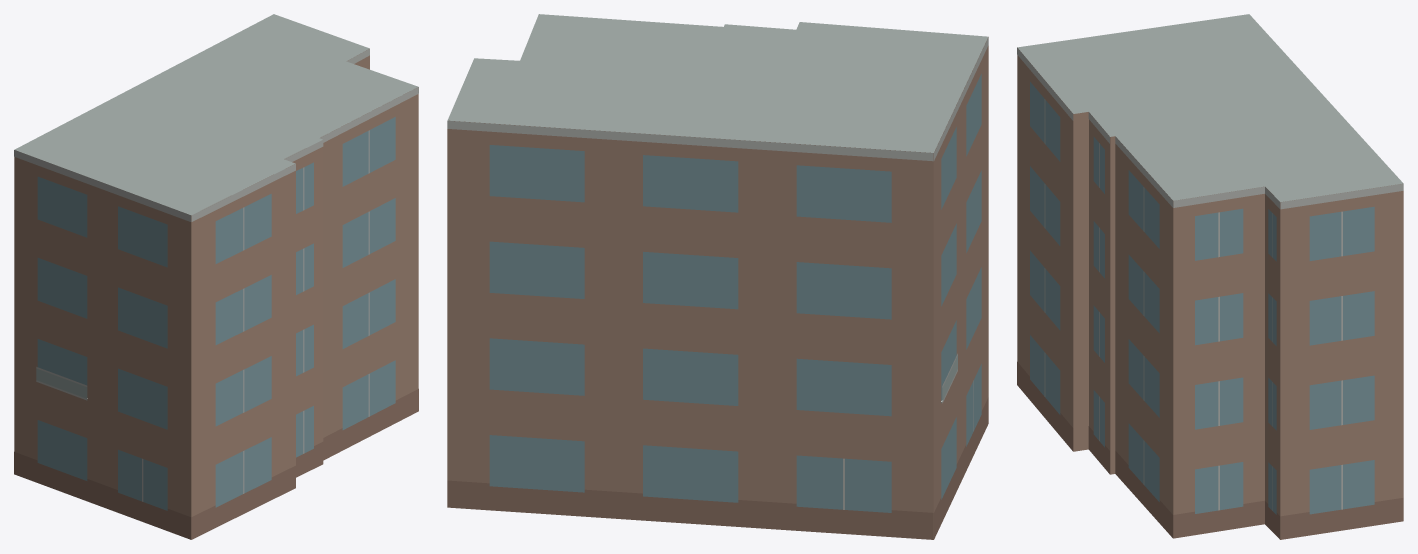
The model's file is survey-upis-32805988.glb.
3 renders of one model, left to right at view 1: azimuth 30°, elevation 25°; view 2: azimuth 150°, elevation 25°; view 3: azimuth 270°, elevation 25°, orthographic. The views are drawn at different scales.
Parts seen in each view (by area): view 1: survey-upis-32805988.tmp; view 2: survey-upis-32805988.tmp; view 3: survey-upis-32805988.tmp.
Part boxes in pixels (x1,y1,x2,y2): survey-upis-32805988.tmp: [14, 14, 418, 539]; survey-upis-32805988.tmp: [447, 14, 988, 539]; survey-upis-32805988.tmp: [1017, 14, 1403, 539].
Bounding box in the file's own units: 13.63 × 11.4 × 11.83.
